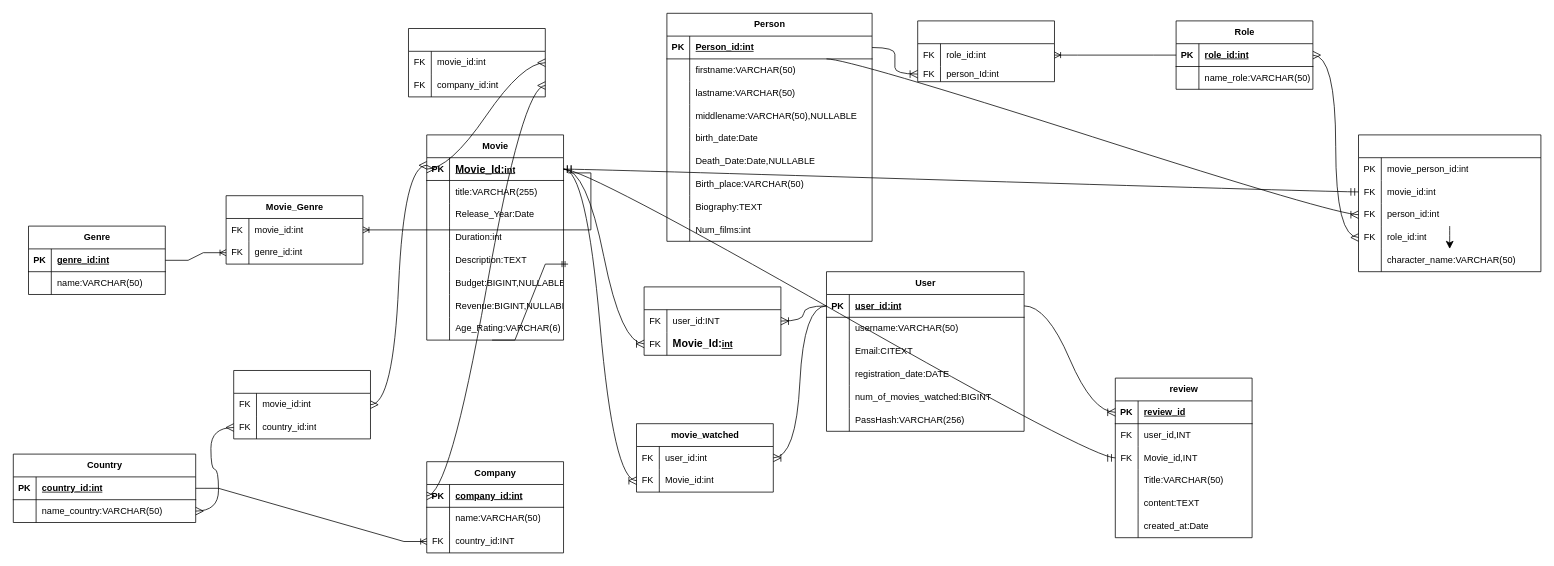
Image size: 1554x566. Some labels were removed from this diagram. Each missing label, with the box of its shape:
Fav_Films: (643, 286, 781, 355)
movie_company: (408, 28, 545, 97)
movie_country: (233, 370, 370, 439)
Movie_Person_Role: (1358, 134, 1541, 272)
Person_Role: (917, 20, 1054, 82)
